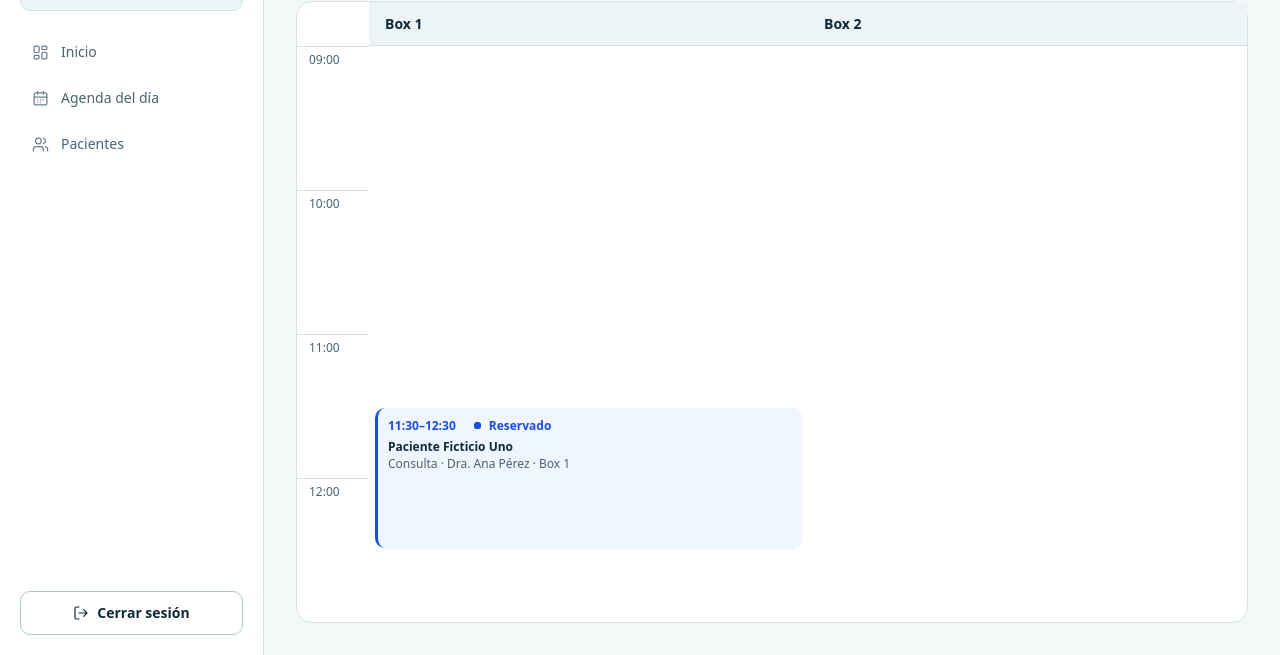
Requirement: Cancelar con confirmación › Desistir de cancelar
(page scrolled)
Click the button with aria-label "turno de las 11:30".
click(422, 425)  # box [375,408,802,548]
(page scrolled)
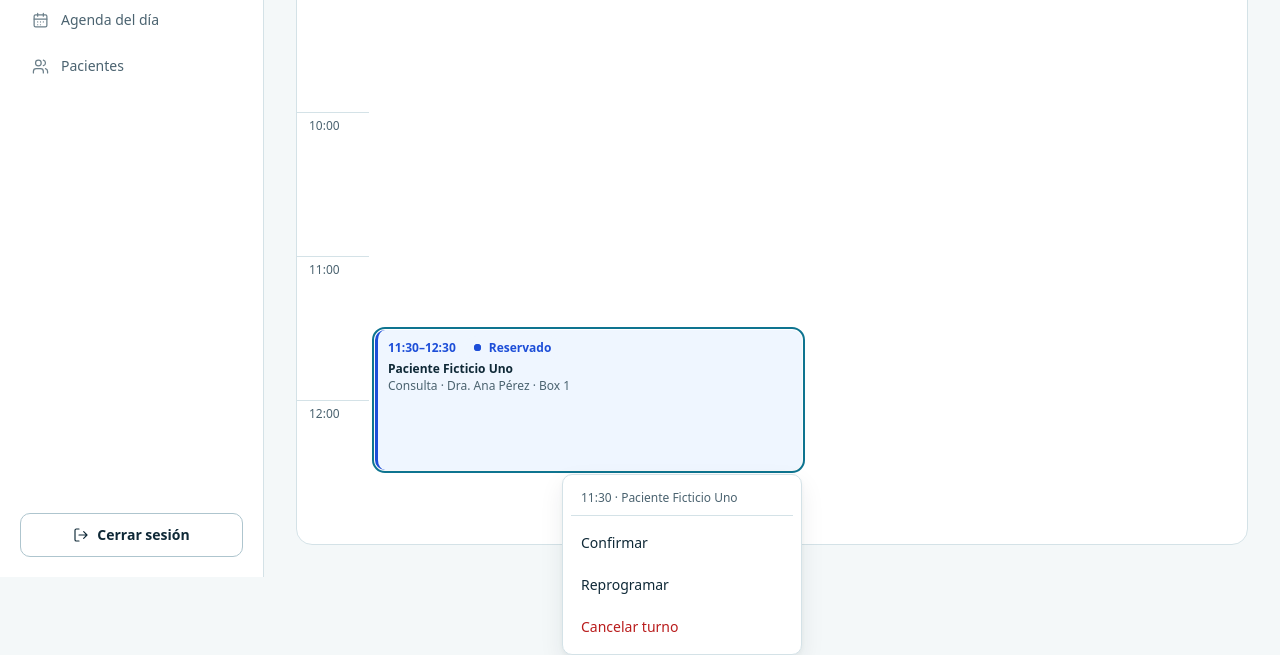
Click the menu item "Cancelar turno".
click(682, 626)  # box [571,606,793,646]
(page scrolled)
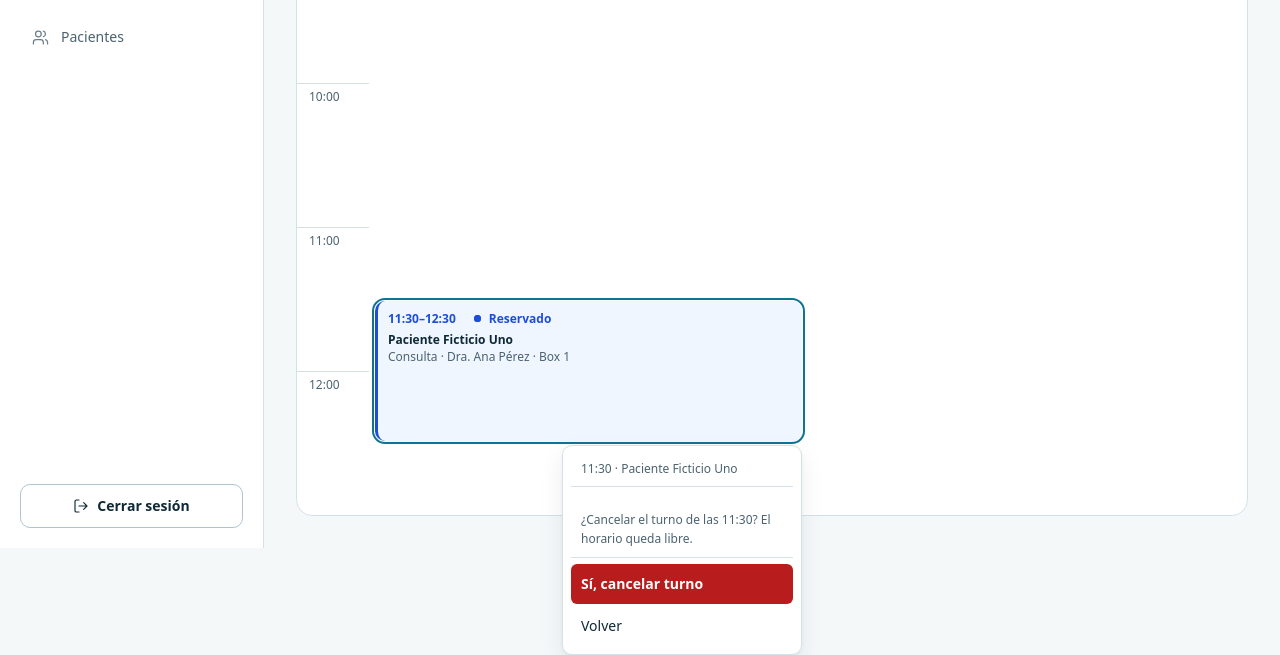
Click the menu item "Volver".
click(682, 626)  # box [571,606,793,646]
(page scrolled)
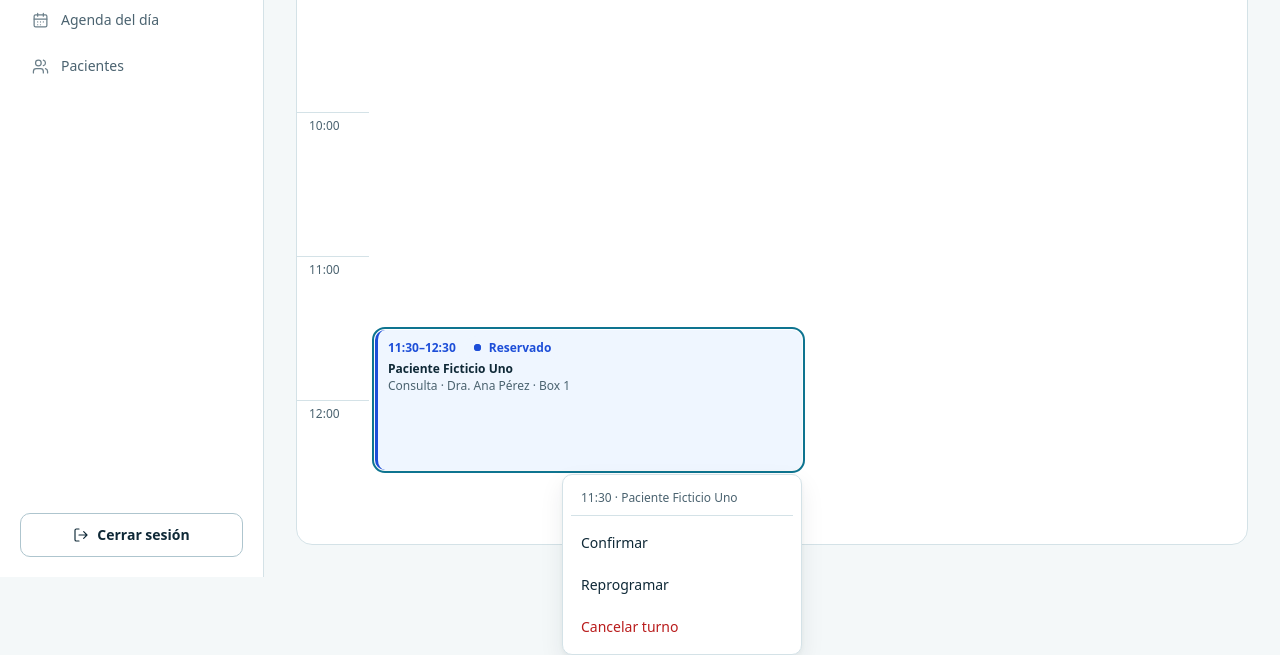
Expected: the menu items read "Confirmar", "Reprogramar", "Cancelar turno", in this order, [571,522,793,562]; [571,564,793,604]; [571,606,793,646]
